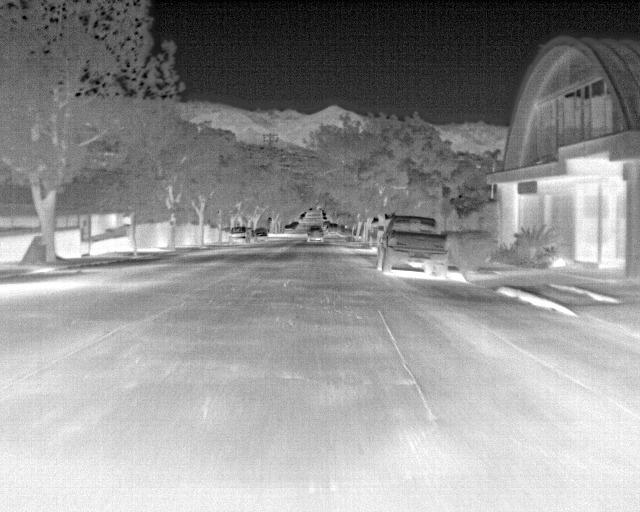bicycle: (377, 213, 447, 274), (228, 225, 249, 243), (306, 224, 325, 243), (323, 222, 340, 237), (253, 227, 268, 241)
